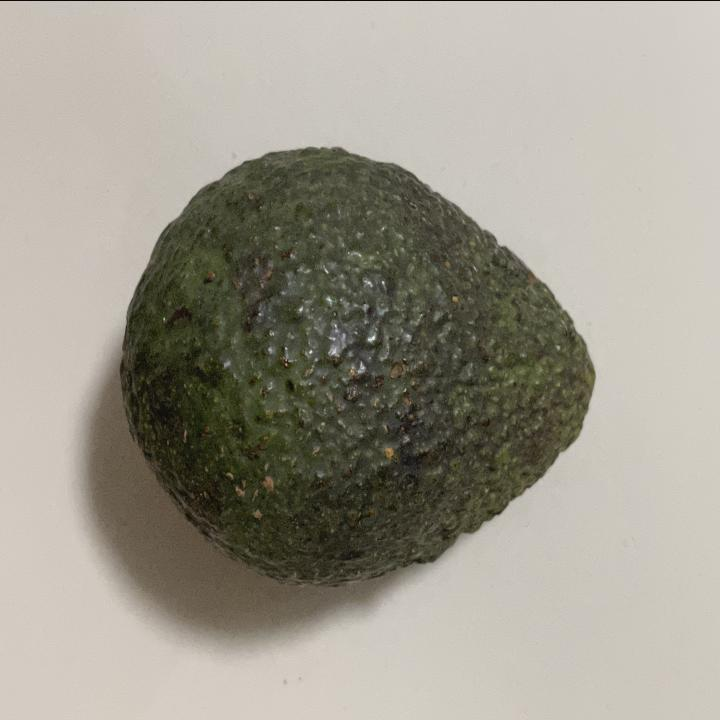Level1: (110, 129, 608, 599)
